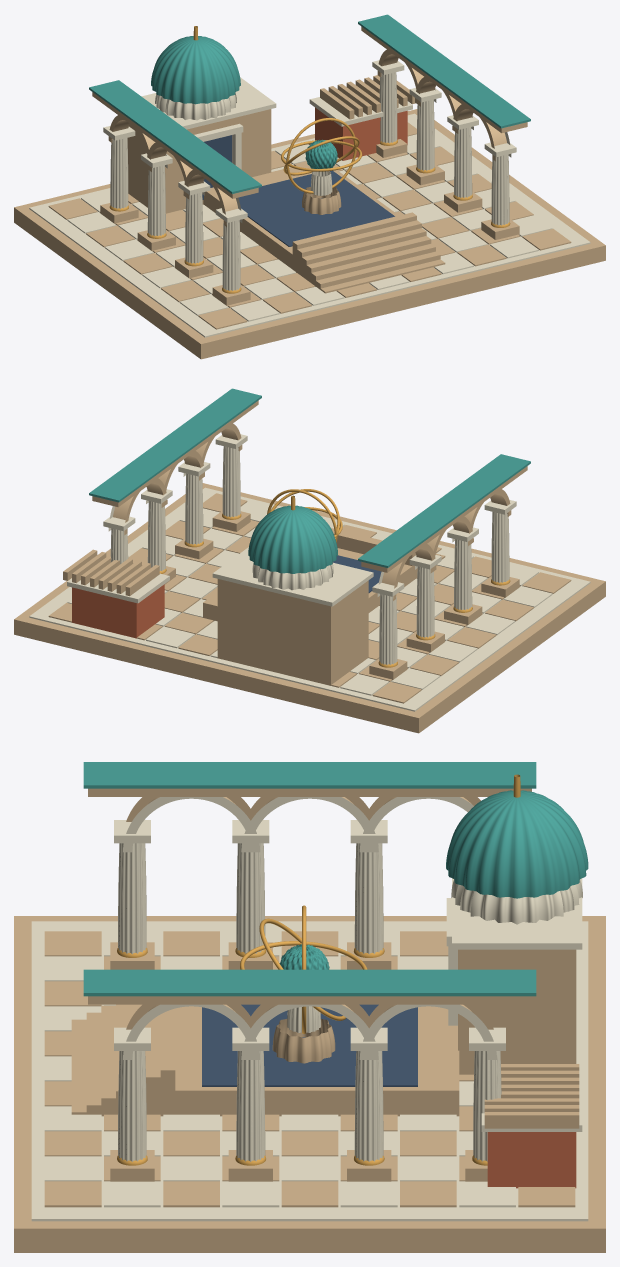
The model's file is source.gltf.
The picture shows the model from 3 angles, top to bottom: view 1: azimuth 30°, elevation 25°; view 2: azimuth 150°, elevation 25°; view 3: azimuth 270°, elevation 25°; orthographic projection. The views are drawn at different scales.
Visible parts, largest first — view 1: Solstice Court; view 2: Solstice Court; view 3: Solstice Court.
Part boxes in pixels (<box>): Solstice Court: <box>14,14,605,359</box>; Solstice Court: <box>14,388,605,733</box>; Solstice Court: <box>14,762,605,1252</box>.
Bounding box in the file's own units: 25 × 10.55 × 20.
